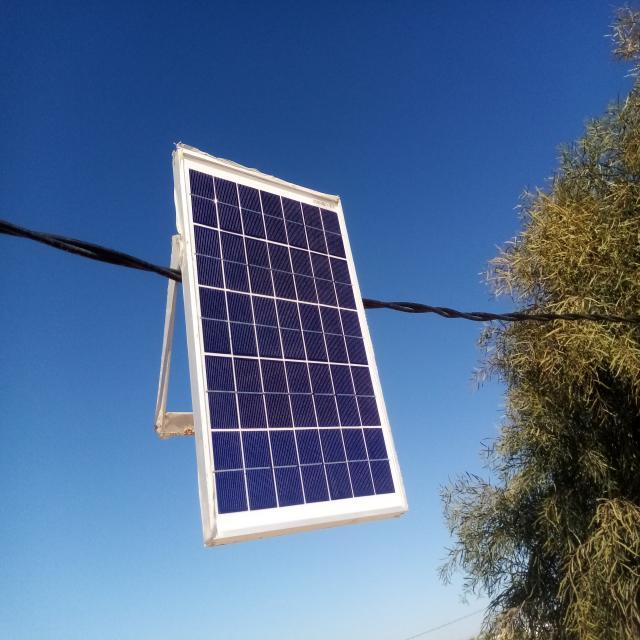no faulty: (178, 152, 405, 537)
